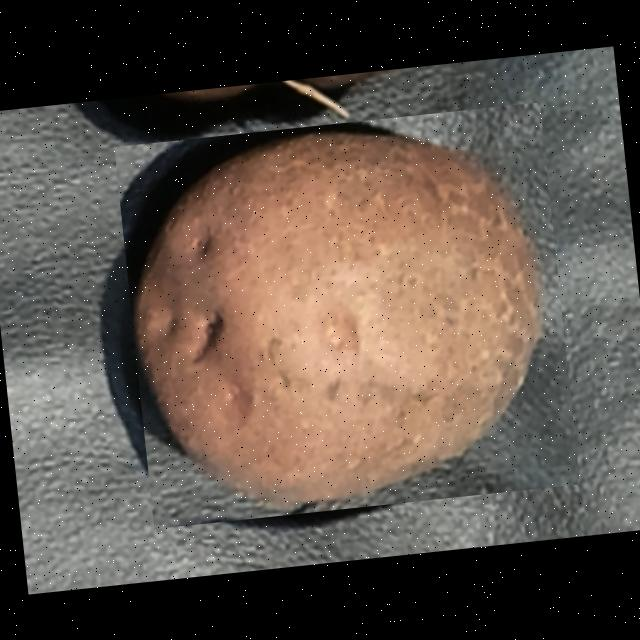Diseased-fungal potato: (112, 102, 578, 529)
